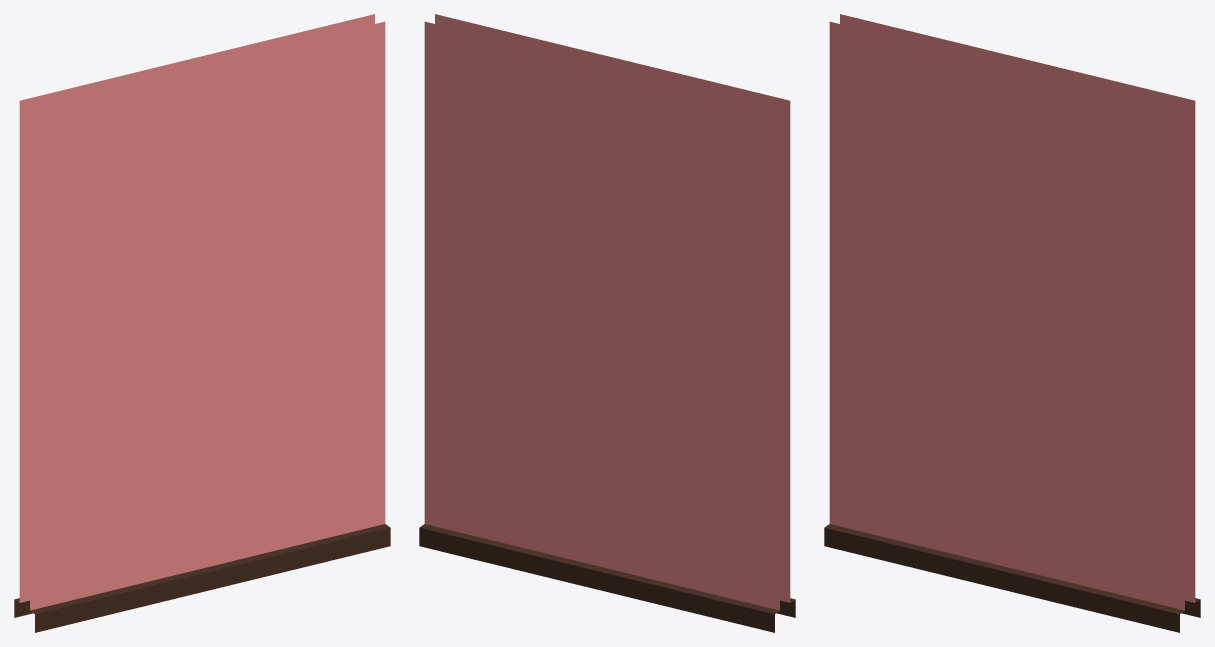
The model's file is SM_Mur_Double_1x2.fbx.
3 renders of one model, left to right at view 1: azimuth 30°, elevation 25°; view 2: azimuth 150°, elevation 25°; view 3: azimuth 330°, elevation 25°, orthographic.
Parts seen in each view (by area): view 1: SM_Mur_Double_1x2; view 2: SM_Mur_Double_1x2; view 3: SM_Mur_Double_1x2.
Boxes of the visible parts, box(x1,y1,x2,y2) form: SM_Mur_Double_1x2: box(14, 14, 390, 632); SM_Mur_Double_1x2: box(419, 14, 795, 632); SM_Mur_Double_1x2: box(824, 14, 1200, 632).
Bounding box in the file's own units: 2 × 2.8 × 0.2.
